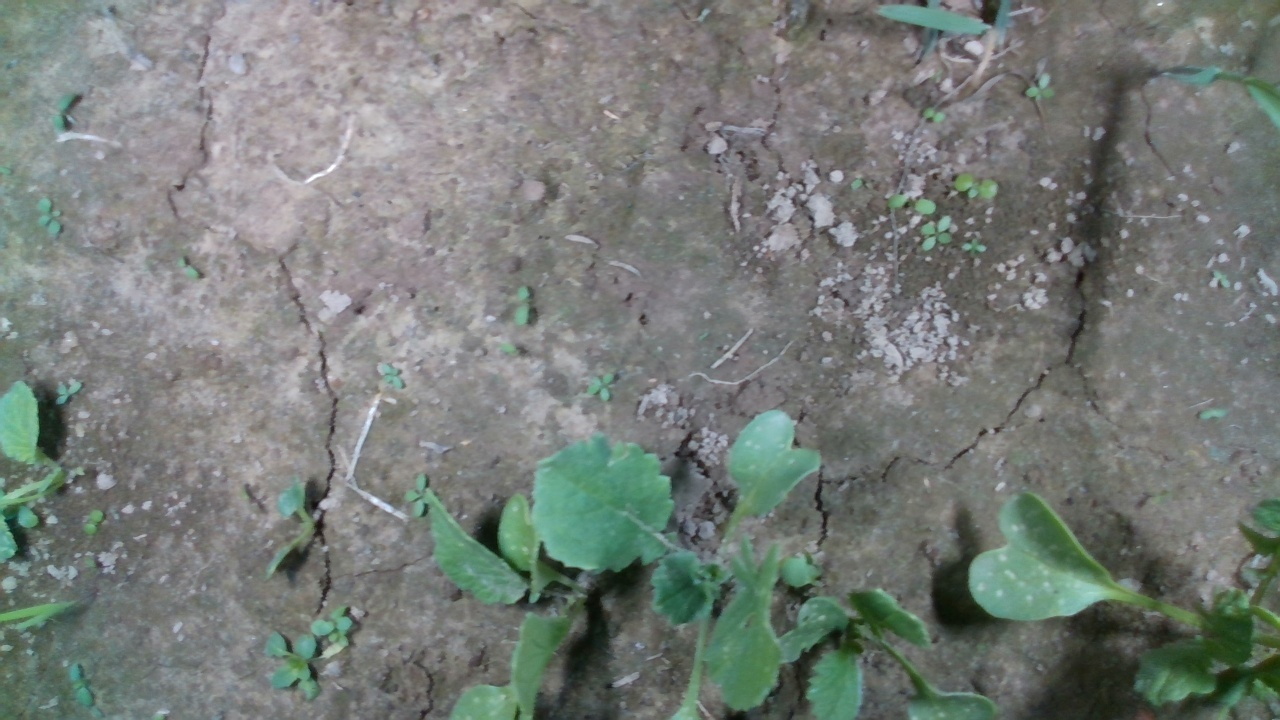weed: (951, 171, 998, 199), (68, 659, 95, 707), (919, 214, 954, 250), (885, 192, 936, 214), (35, 197, 62, 235), (1024, 70, 1056, 102), (51, 91, 76, 131), (584, 371, 616, 402), (513, 282, 530, 326), (380, 361, 405, 390), (960, 235, 987, 259), (83, 508, 104, 536), (177, 255, 200, 279), (921, 106, 947, 126)
